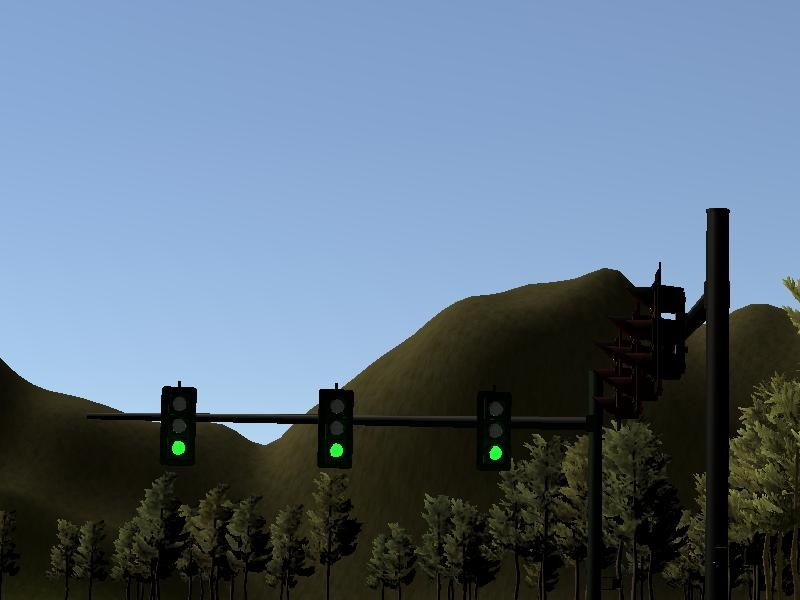GREEN: (477, 392, 512, 471), (318, 387, 353, 466), (161, 384, 196, 463)
